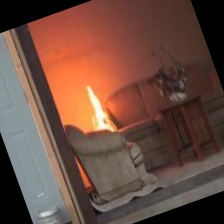fire: (72, 76, 115, 129)
